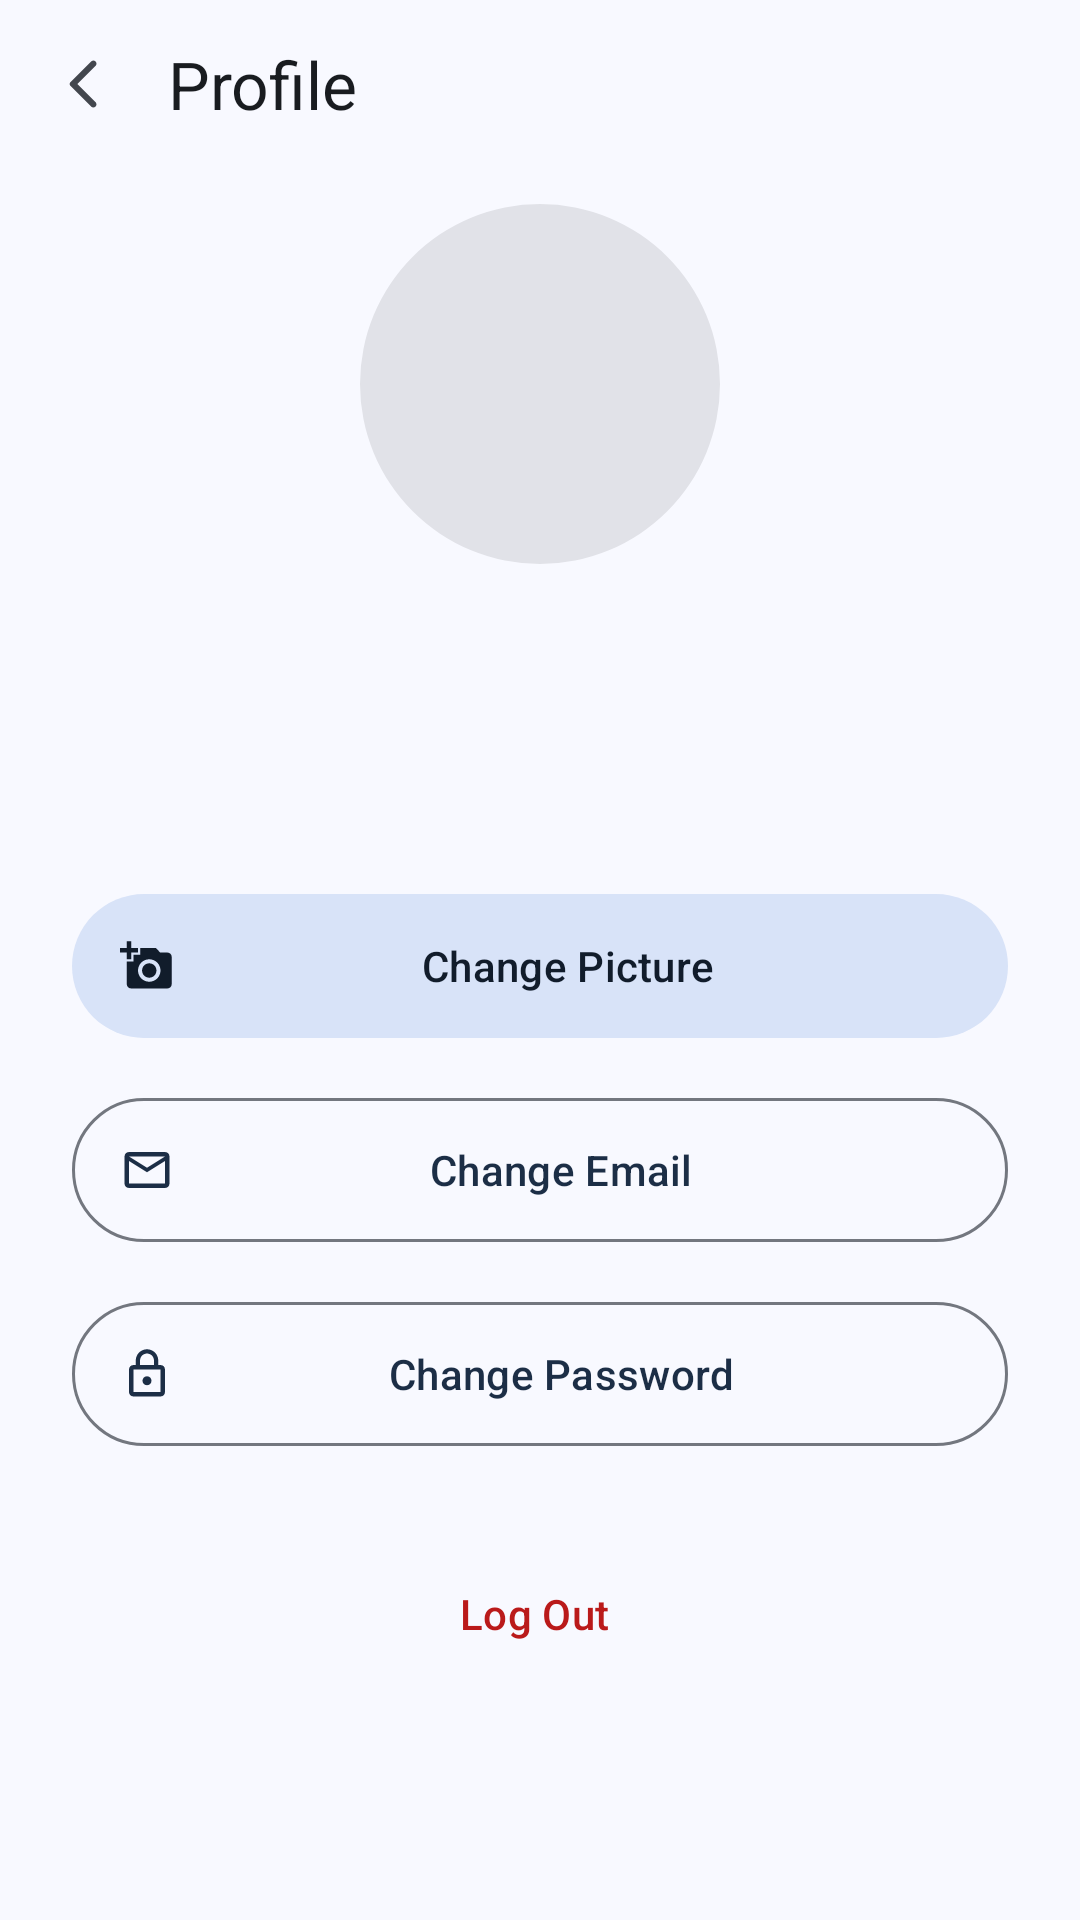

Icon bounding boxes for this 1080x1920 phone screenshot, format (x1, y1, x2, y2):
Back: (69, 60, 97, 108)
